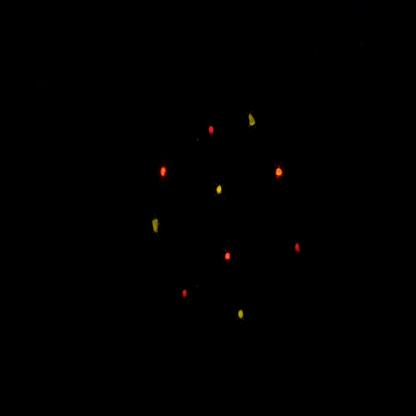PE: (214, 181, 231, 202), (236, 302, 248, 326)
PET: (202, 111, 221, 140), (292, 232, 309, 262), (178, 280, 194, 310)
PP: (244, 105, 261, 136), (150, 209, 163, 240)
PVC: (271, 160, 288, 187), (221, 239, 234, 269), (159, 159, 172, 184)
